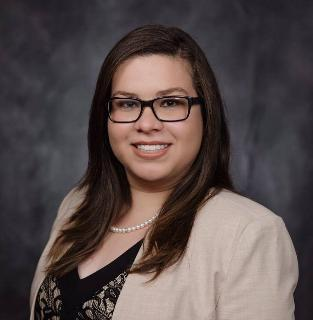person - v3 P: (30, 25, 298, 319)
